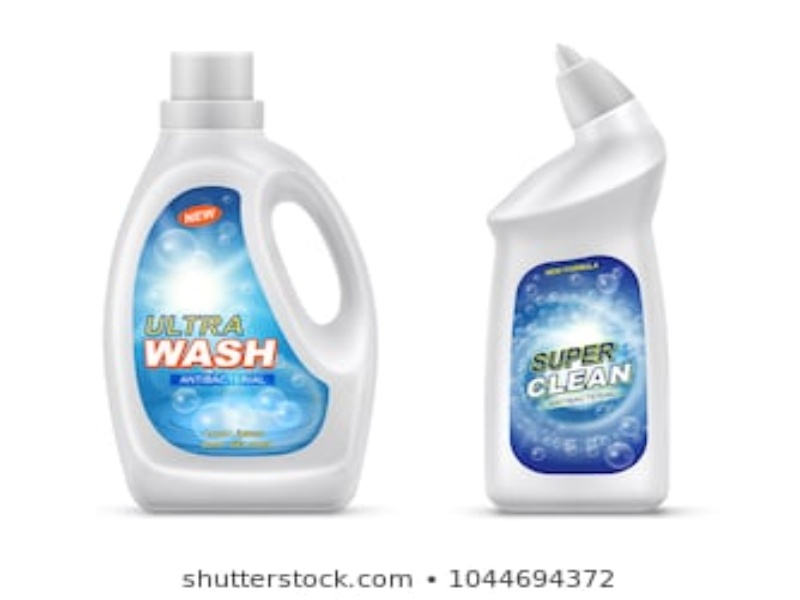detergent-bottle: (97, 48, 376, 516), (485, 39, 678, 517)
